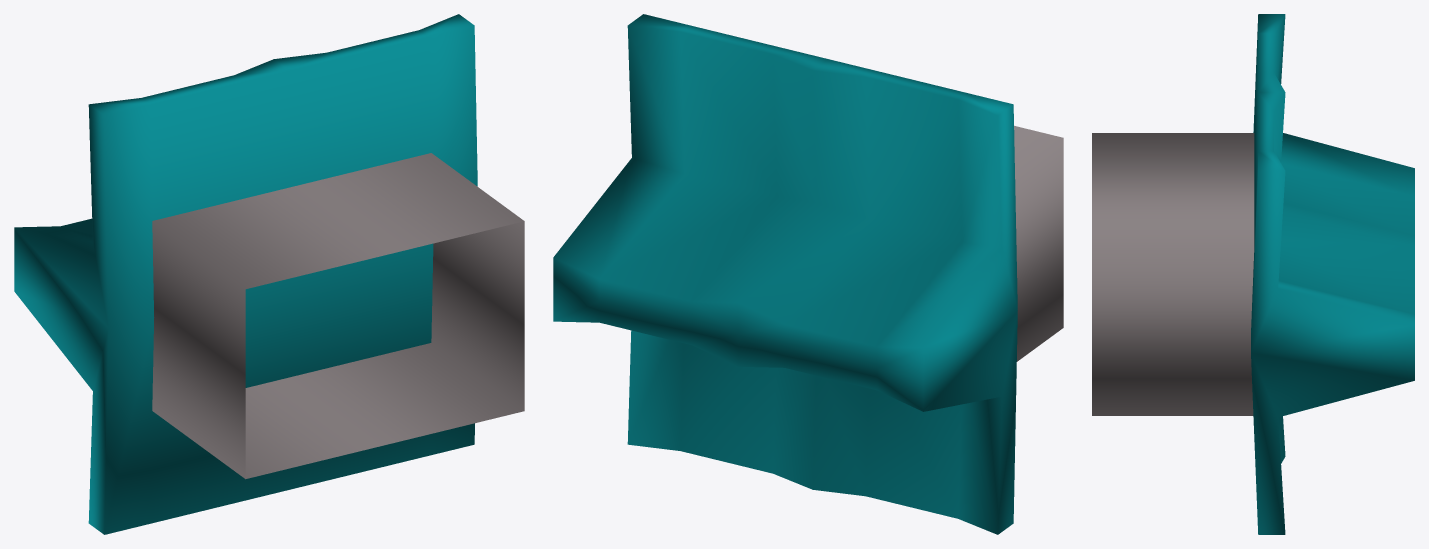
File: Bench_03.fbx
The picture shows the model from 3 angles, left to right: view 1: azimuth 30°, elevation 25°; view 2: azimuth 150°, elevation 25°; view 3: azimuth 270°, elevation 25°; orthographic projection. The views are drawn at different scales.
Parts seen in each view (by area): view 1: SubwayBench_03_low; view 2: SubwayBench_03_low; view 3: SubwayBench_03_low.
Boxes of the visible parts, x1,y1,x2,y2 form: SubwayBench_03_low: (14,14,524,534); SubwayBench_03_low: (553,14,1063,534); SubwayBench_03_low: (1092,14,1414,534).
Size of the model in its own units: 1.02 by 1.1 by 0.8869.
